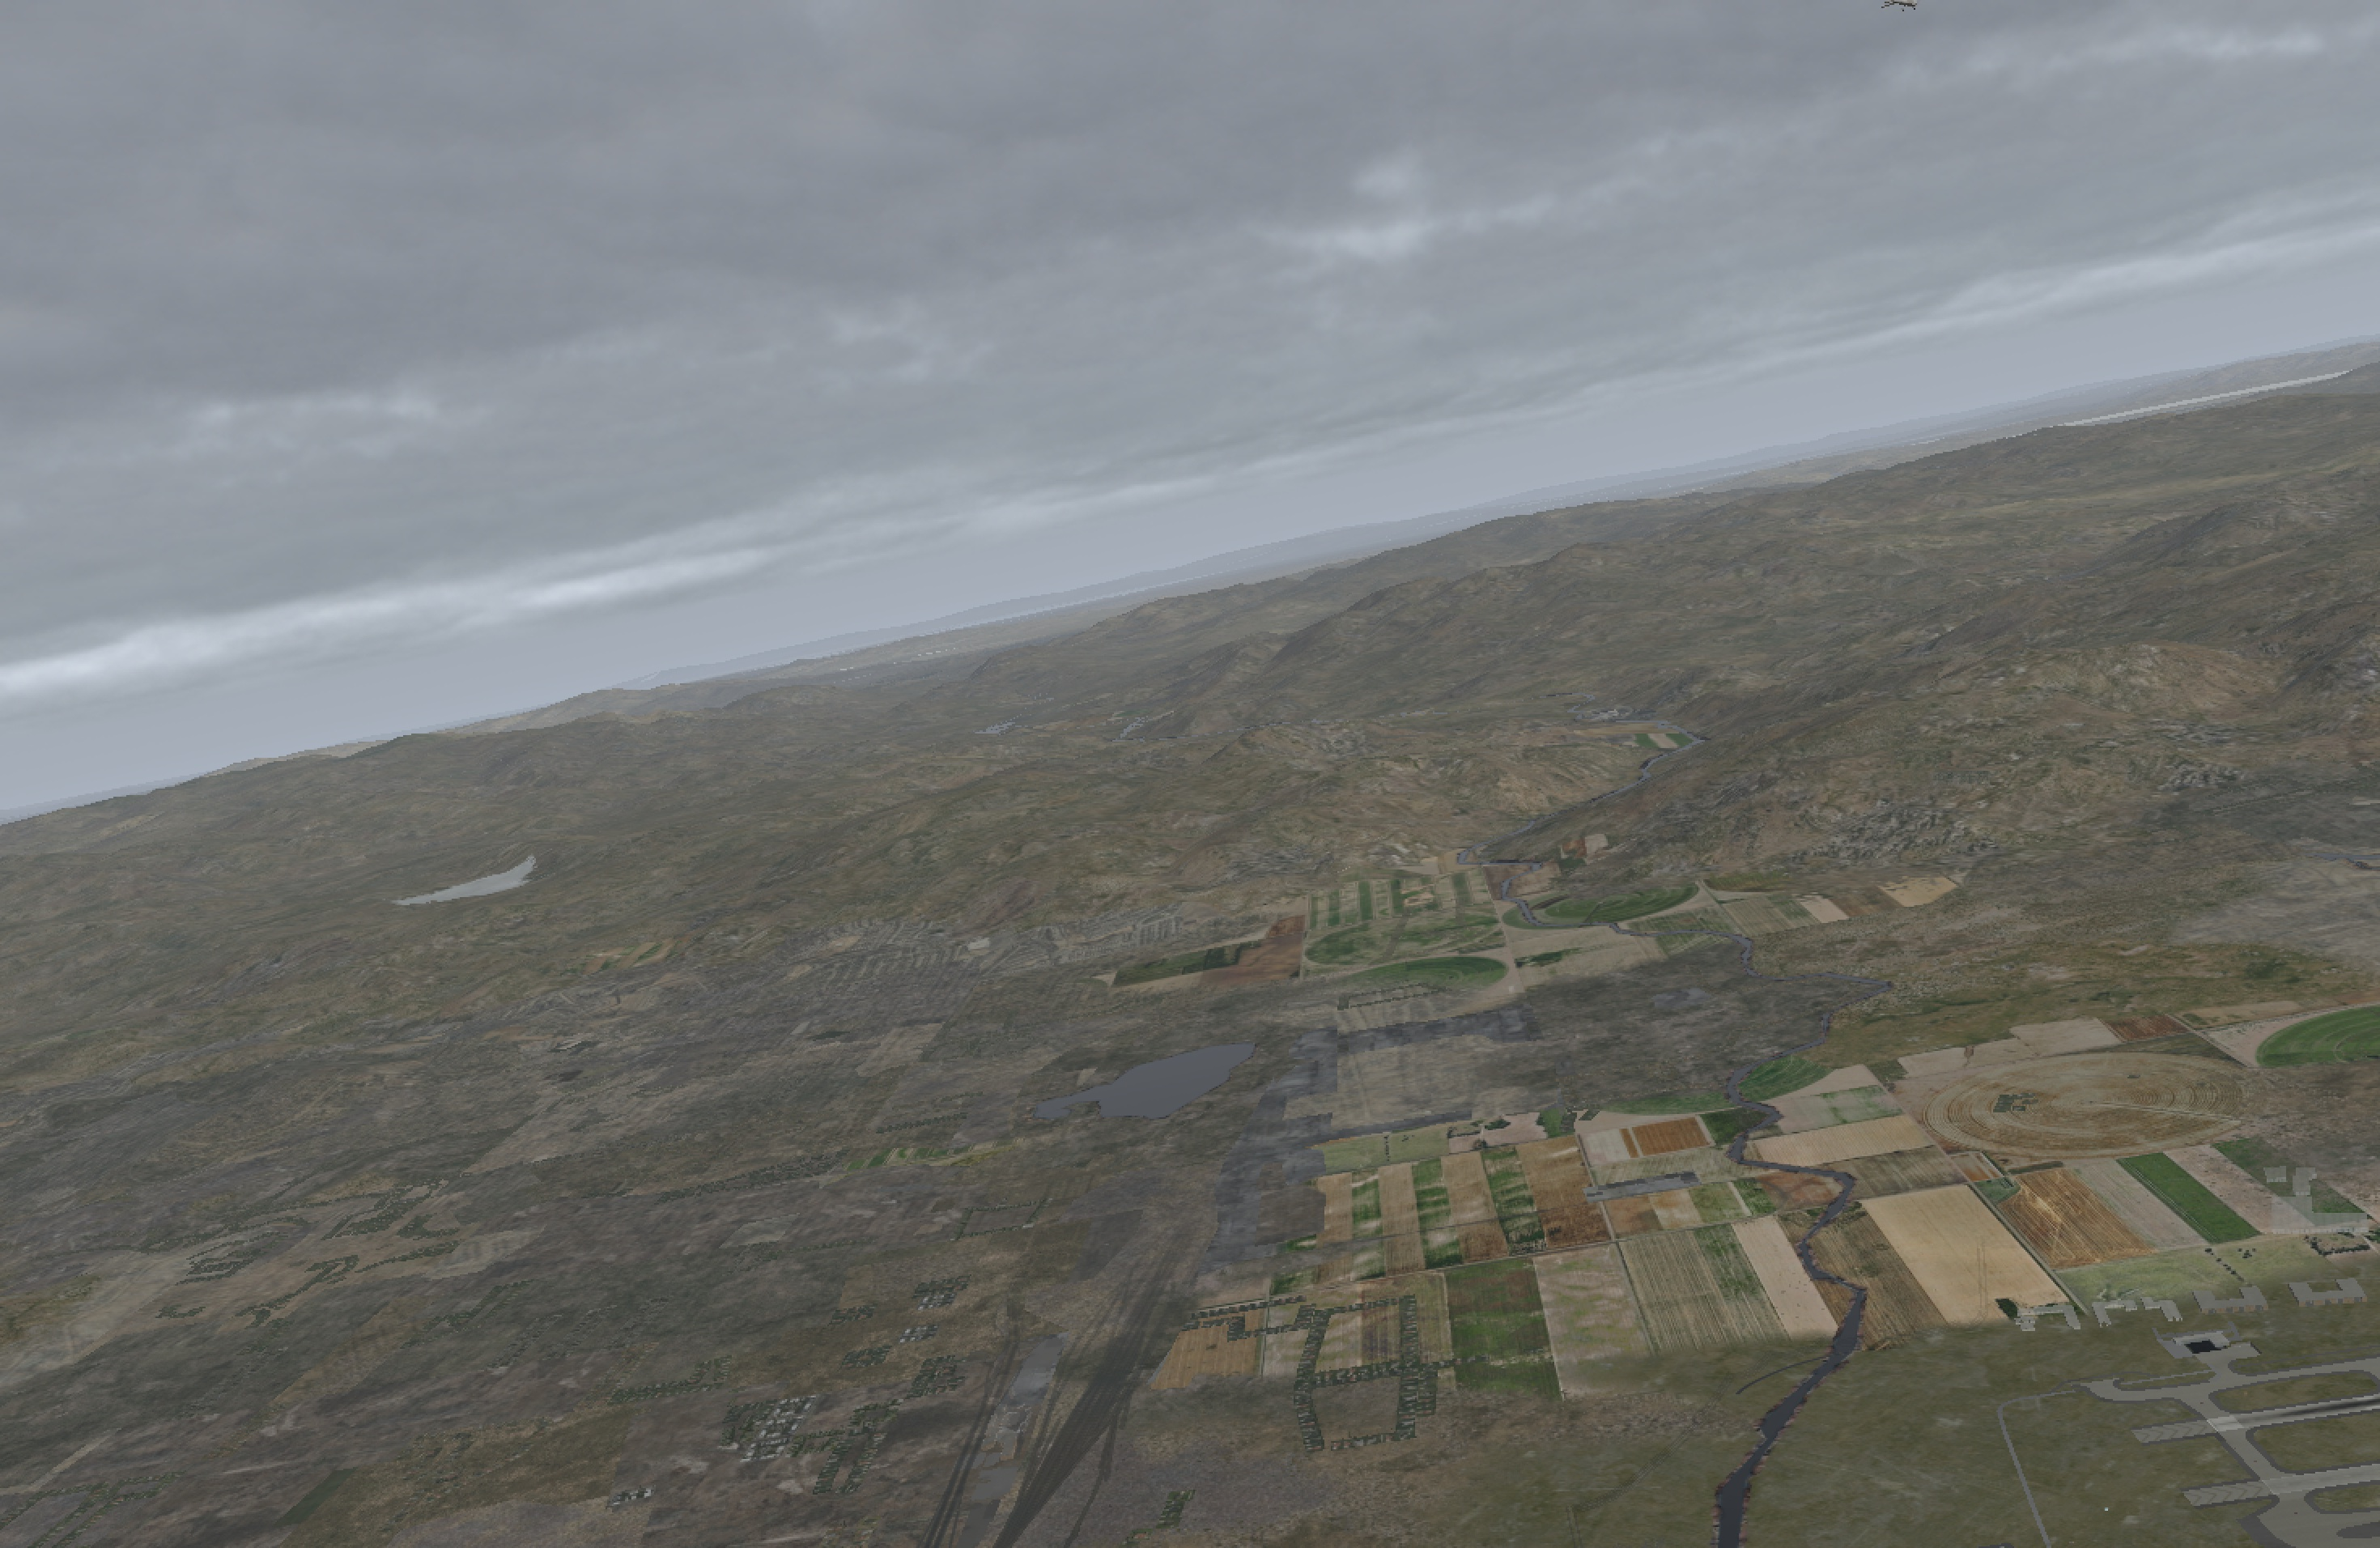aircraft: (1889, 0, 1927, 9)
